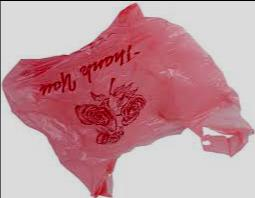Plastic: (2, 2, 254, 196)
